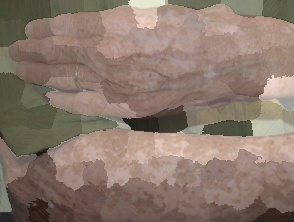vitiligo: (5, 2, 294, 127), (0, 130, 294, 222)
